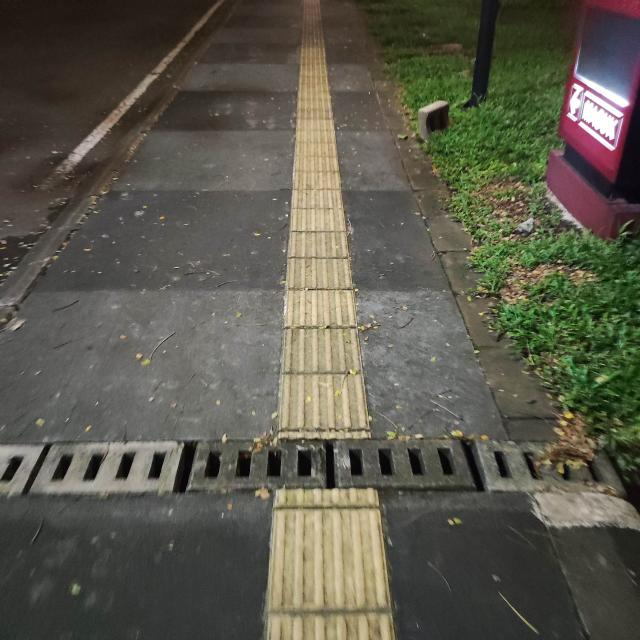lurus: (282, 19, 369, 640)
